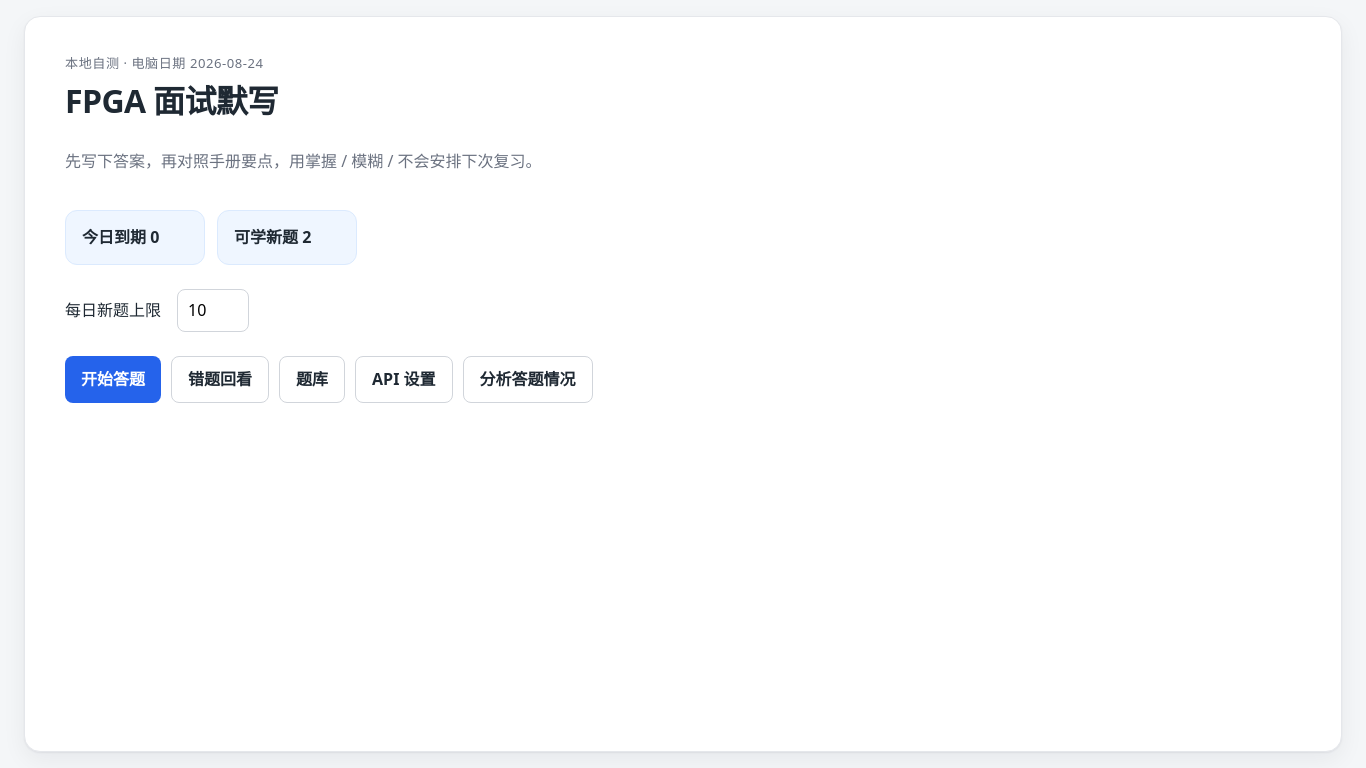
Test: quiz app › opens custom fields when the saved model is no longer in the open list
Expected: the heading "FPGA 面试默写" is shown, [65, 79, 278, 122]
Step 1. Click the button "API 设置" → (404,379), box [355, 356, 452, 402]
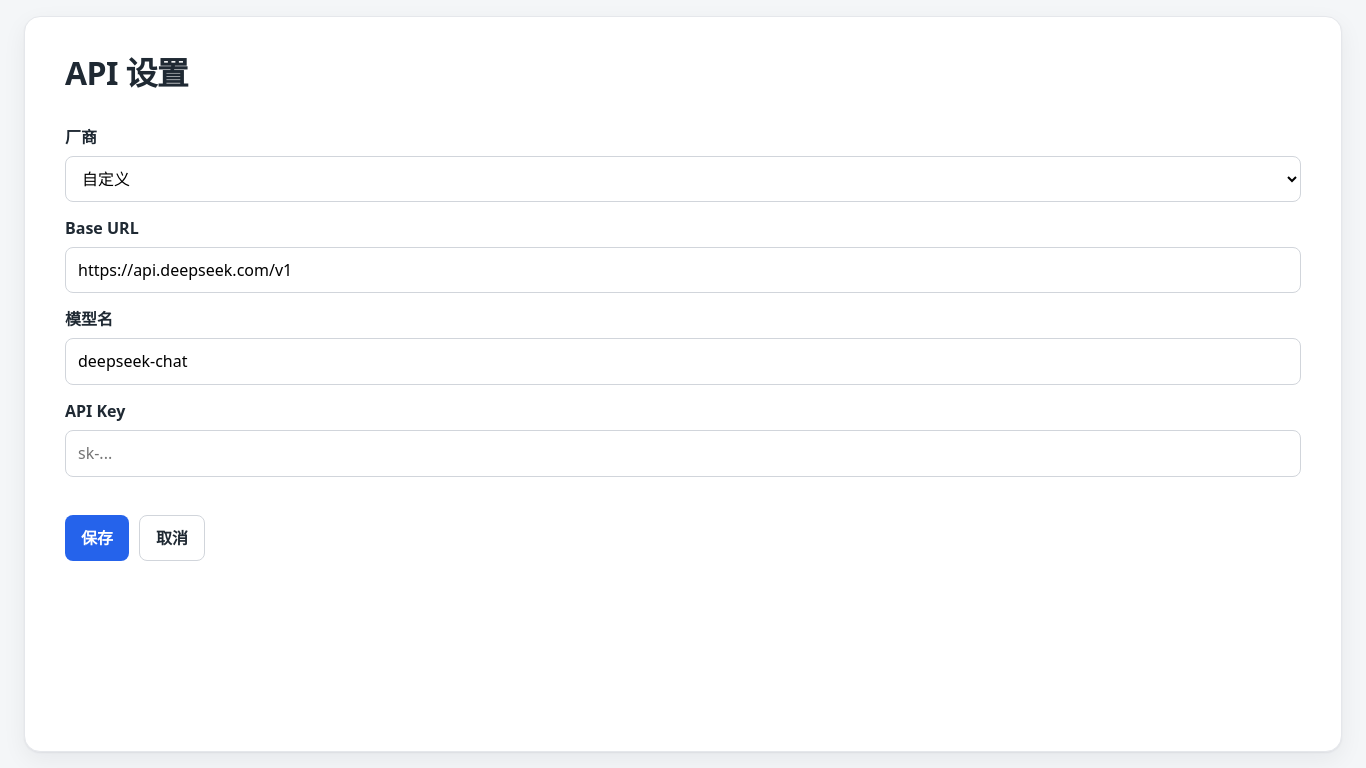
Expected: the dropdown labelled "厂商" shows "自定义", [65, 156, 1301, 202]
Expected: the field labelled "Base URL" holds "https://api.deepseek.com/v1", [65, 247, 1301, 293]
Expected: the field labelled "模型名" holds "deepseek-chat", [65, 338, 1301, 385]
